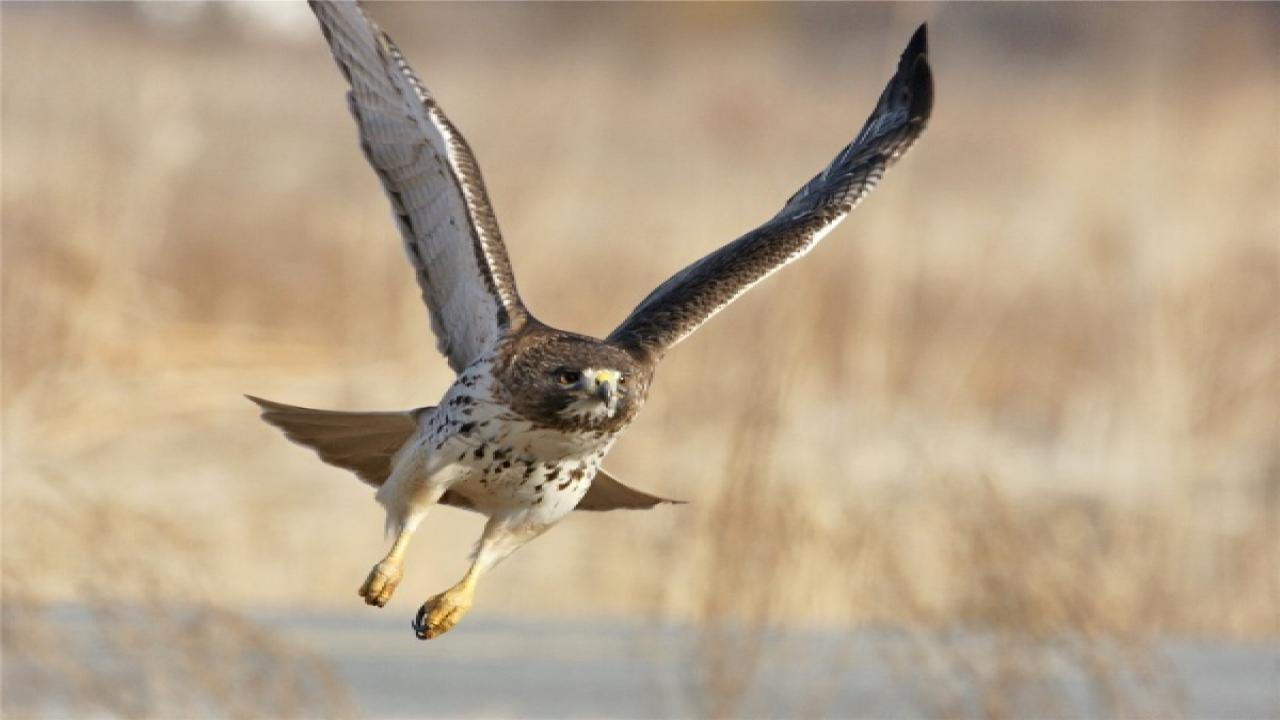Bird: (229, 0, 954, 646)
